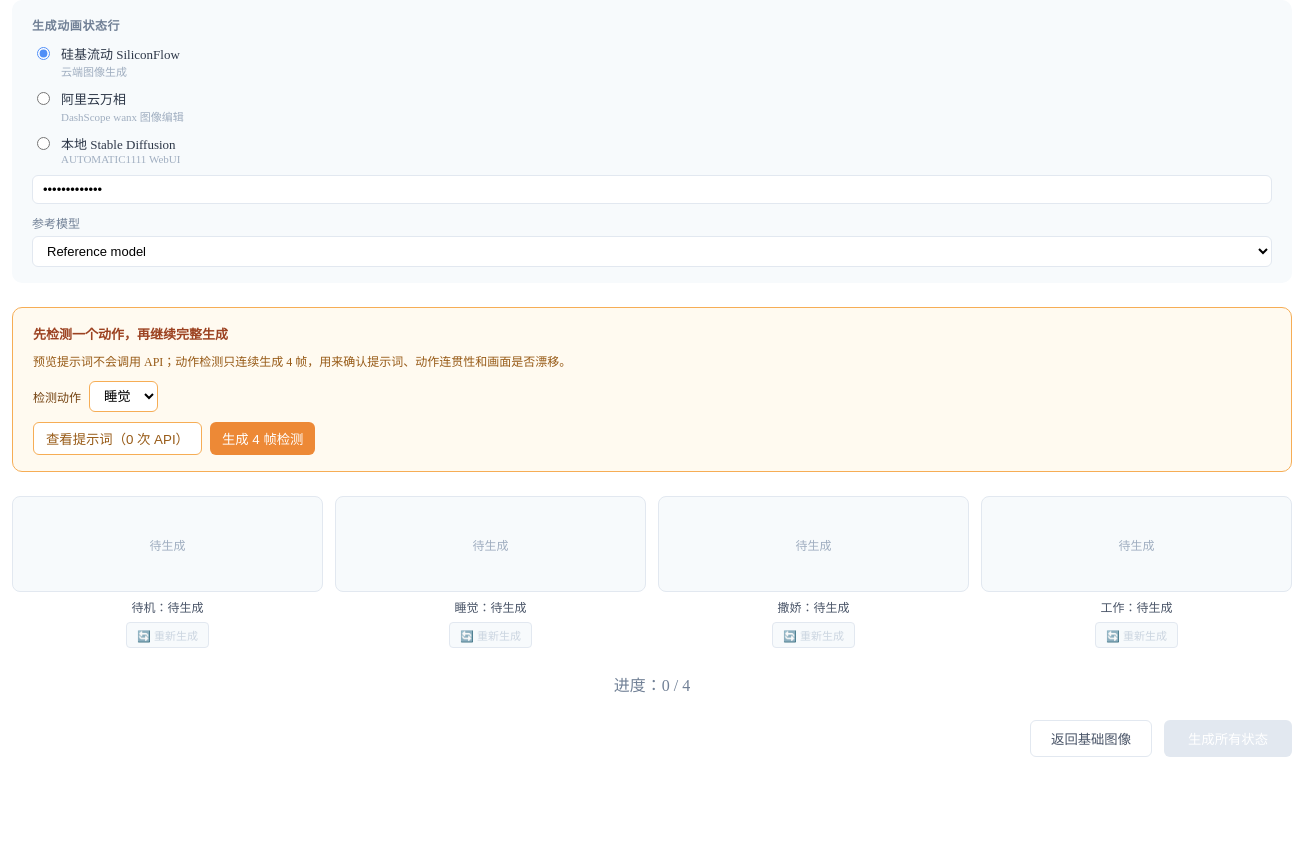
Test: StateGenerationStep › locks full generation again when a replacement probe fails
Click the button "生成 4 帧检测" at (263, 438), box [210,422,315,455]
(page scrolled)
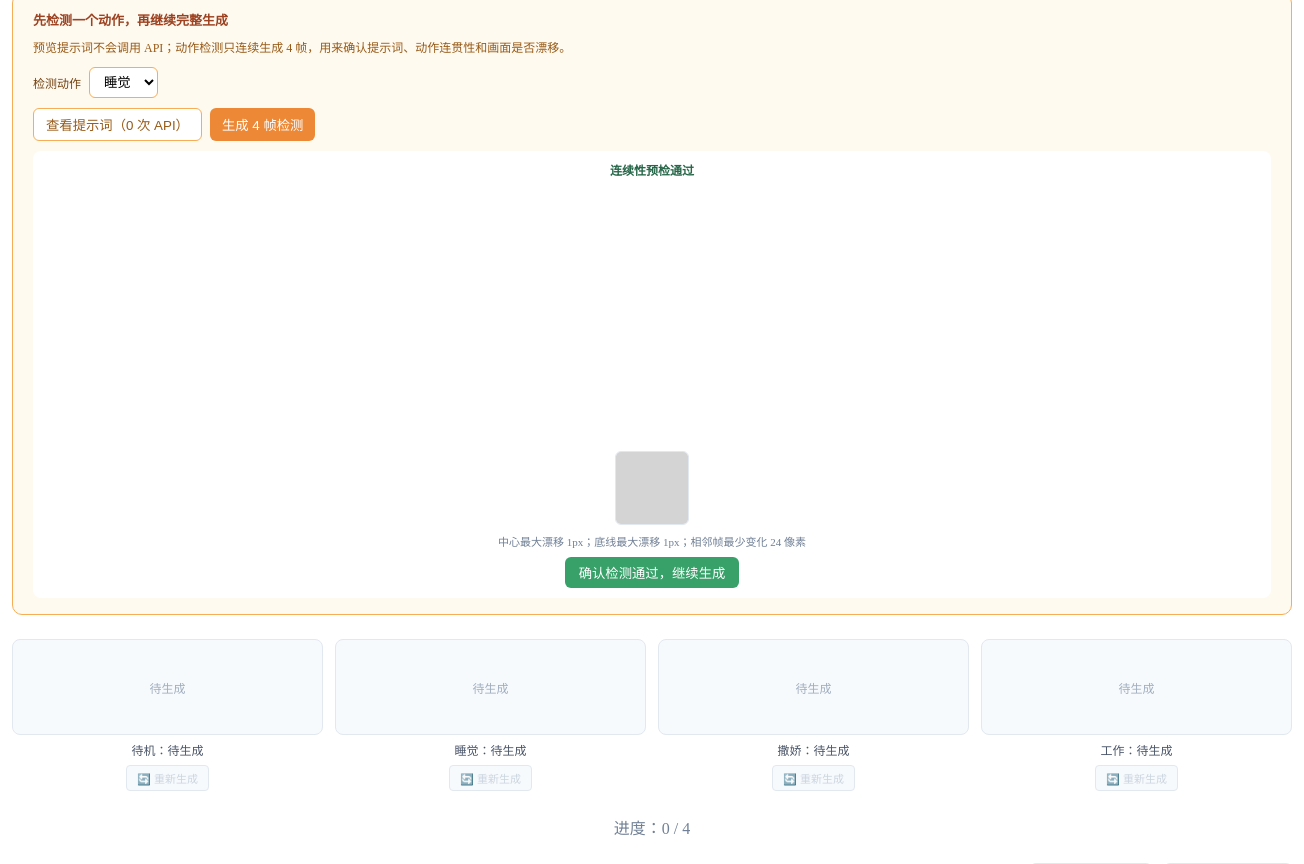
Expected: the text "连续性预检通过" is shown, [610,161,694,179]
Click the button "确认检测通过，继续生成" at (652, 572), box [565,557,739,588]
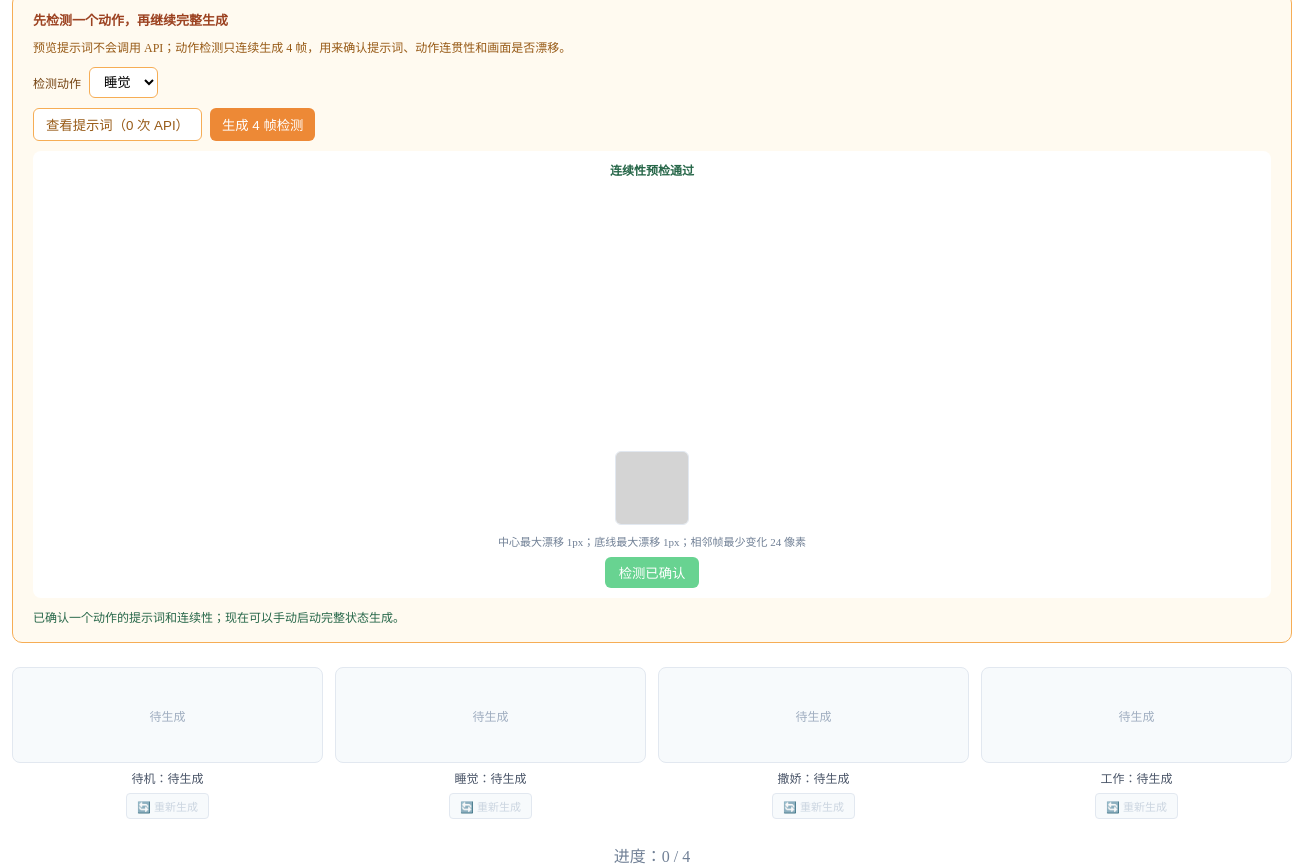
Click the button "生成 4 帧检测" at (263, 124), box [210,108,315,141]
(page scrolled)
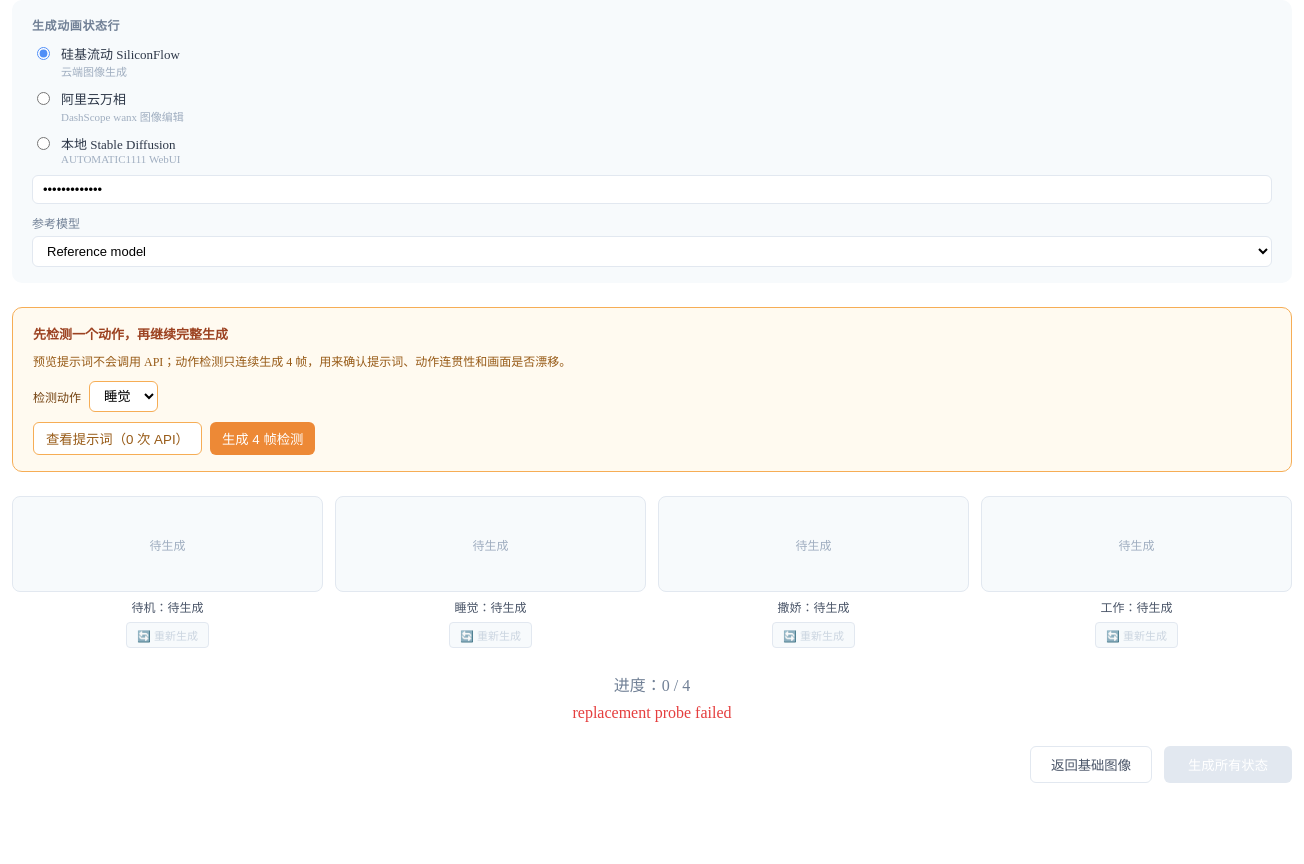
Expected: the text "replacement probe failed" is shown, [572,704,732,722]
Expected: the button "生成所有状态" is disabled, [1164,746,1292,783]
